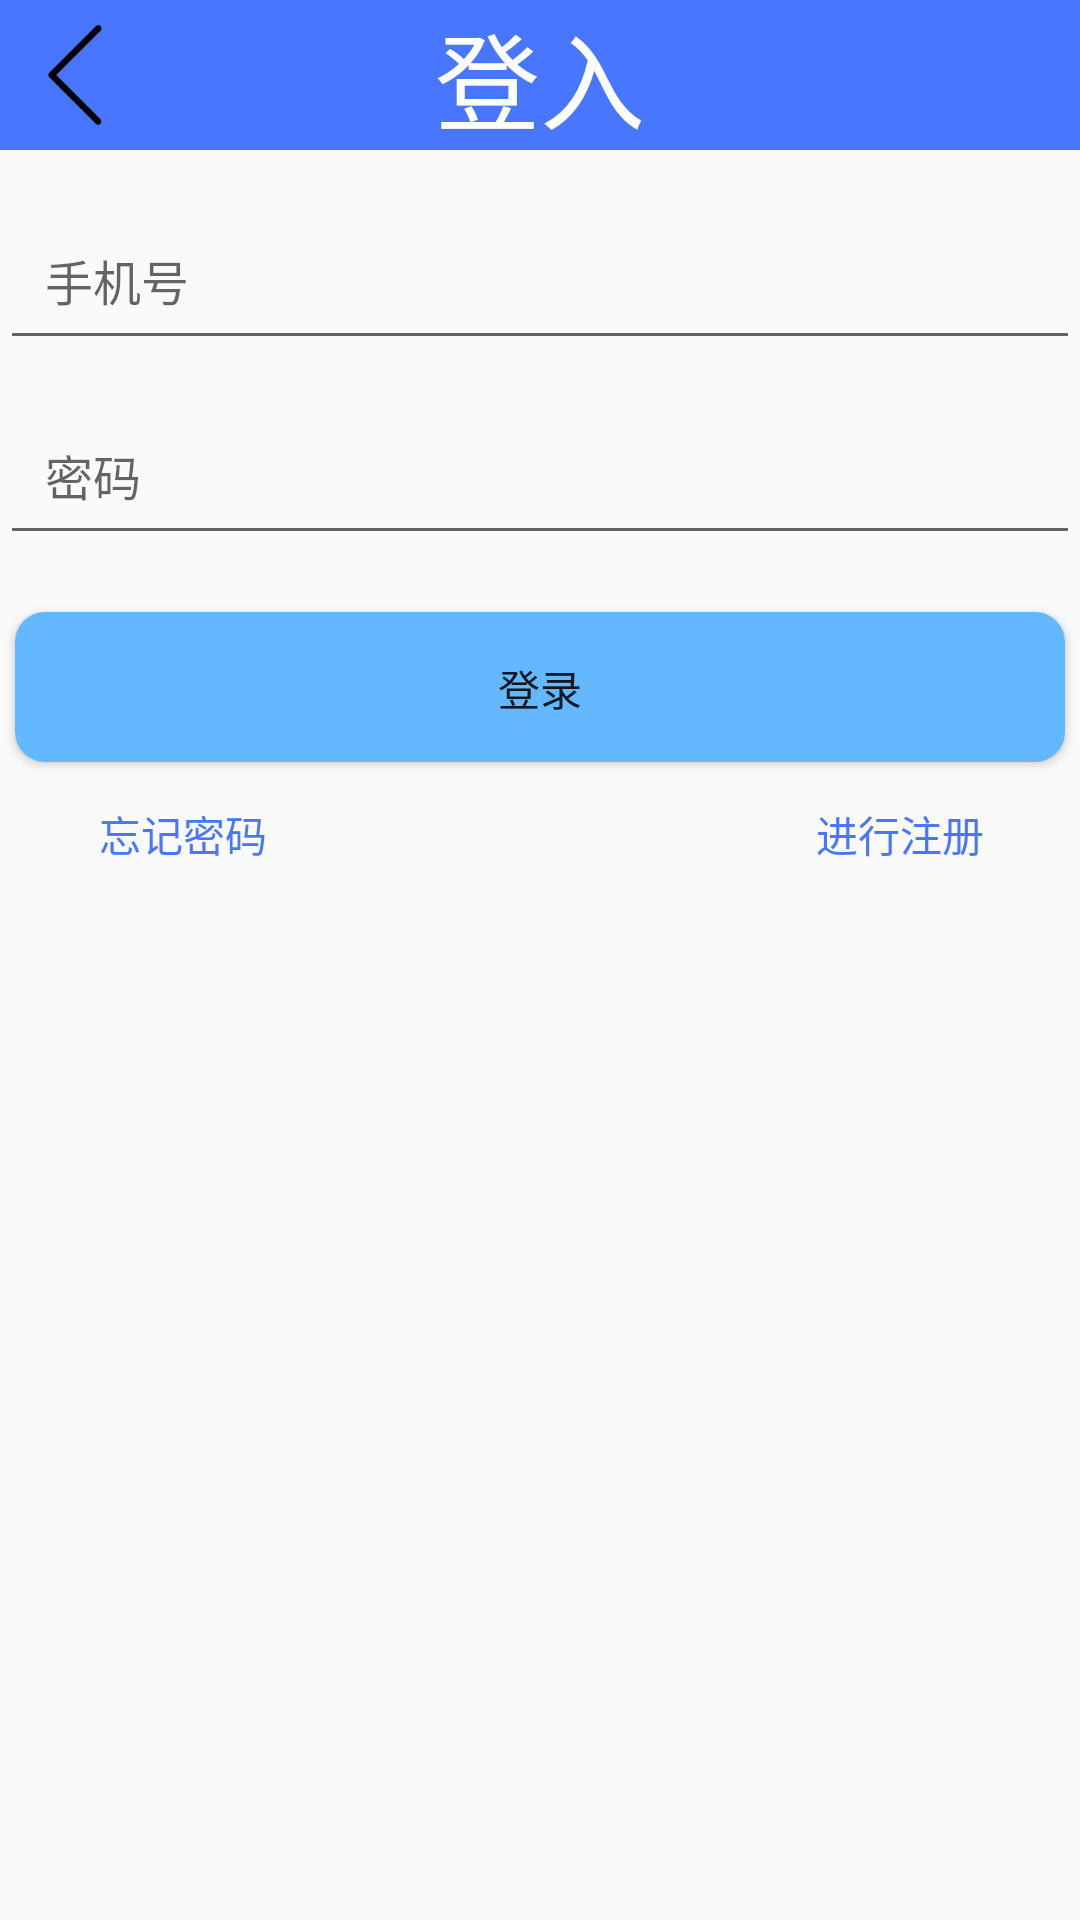

Named icons in this screenshot (1080px x 1920px) and their centers, [x,y]:
back: [75,75]
